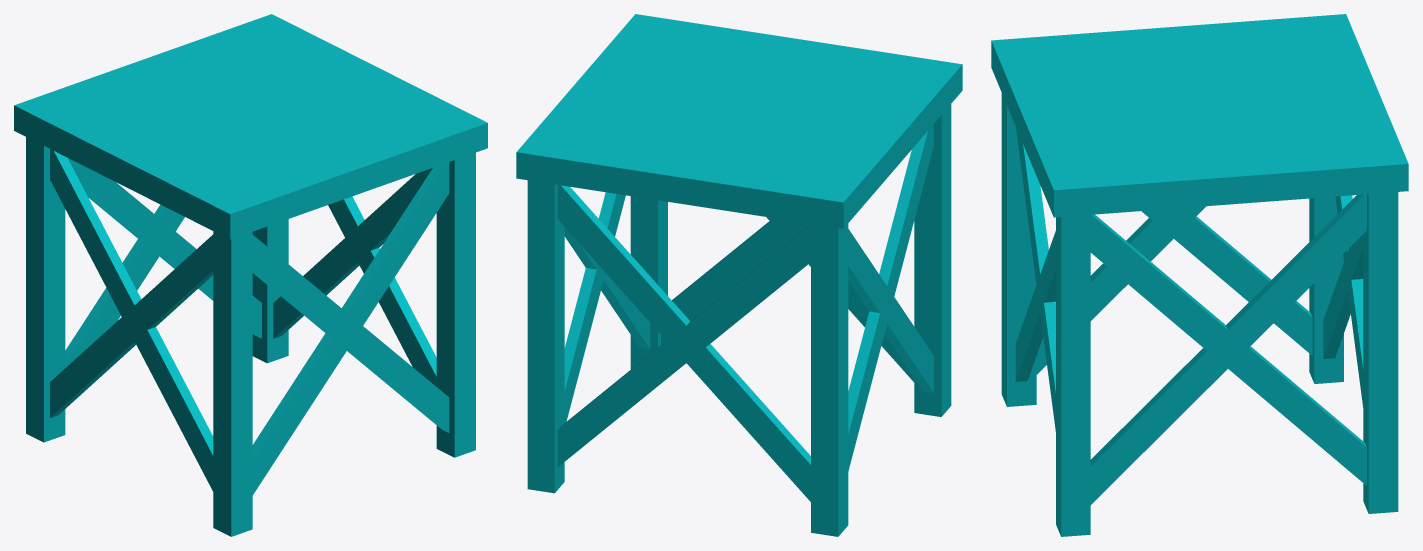
File: 1x1_stand.fbx
The picture shows the model from 3 angles, left to right: view 1: azimuth 30°, elevation 25°; view 2: azimuth 150°, elevation 25°; view 3: azimuth 270°, elevation 25°; orthographic projection. The views are drawn at different scales.
Parts seen in each view (by area): view 1: top, leg1, leg2, leg4, support_1B, support_3B, support_1A, support_3A, support_2A, support_4A, support_2B, support_4B (+1 smaller); view 2: top, leg4, support_4B, leg3, support_4A, leg1, support_3A, support_3B, support_1A, leg2, support_2A, support_2B (+1 smaller); view 3: top, support_2B, support_2A, leg2, leg3, leg1, support_3A, leg4, support_1A, support_3B, support_1B, support_4B (+1 smaller).
Boxes of the visible parts, x1,y1,x2,y2 form: top: [14, 14, 487, 239]; leg1: [213, 231, 252, 536]; leg2: [436, 152, 475, 457]; leg4: [26, 137, 65, 442]; support_1B: [252, 162, 449, 495]; support_3B: [50, 149, 213, 491]; support_1A: [252, 235, 449, 432]; support_3A: [50, 234, 213, 417]; support_2A: [273, 168, 432, 338]; support_4A: [68, 158, 261, 338]; support_2B: [328, 196, 436, 386]; support_4B: [65, 204, 184, 367]; top: [516, 14, 962, 228]; leg4: [811, 223, 848, 536]; support_4B: [557, 185, 810, 501]; leg3: [527, 180, 564, 493]; support_4A: [557, 224, 810, 466]; leg1: [914, 104, 951, 416]; support_3A: [848, 124, 933, 470]; support_3B: [848, 229, 933, 392]; support_1A: [661, 218, 810, 344]; leg2: [630, 196, 667, 368]; support_2A: [564, 192, 625, 422]; support_2B: [564, 227, 650, 349]; top: [991, 14, 1408, 217]; support_2B: [1090, 194, 1366, 504]; support_2A: [1090, 214, 1366, 485]; leg2: [1056, 215, 1090, 536]; leg3: [1363, 192, 1398, 513]; leg1: [1001, 93, 1036, 406]; support_3A: [1141, 208, 1312, 355]; leg4: [1309, 196, 1343, 383]; support_1A: [1015, 126, 1055, 431]; support_3B: [1036, 206, 1205, 374]; support_1B: [1015, 231, 1055, 381]; support_4B: [1323, 234, 1363, 358].
Bounding box in the file's own units: 348 × 348 × 322.
